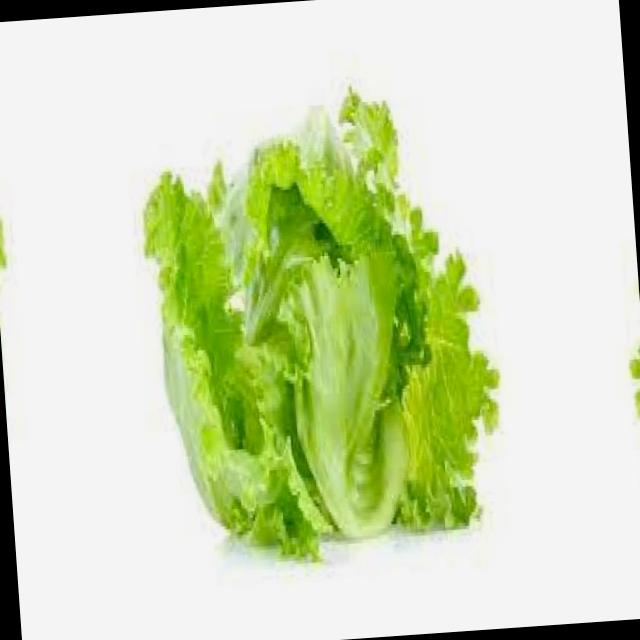healthy: (125, 76, 497, 564), (0, 107, 35, 572), (622, 64, 640, 528)
